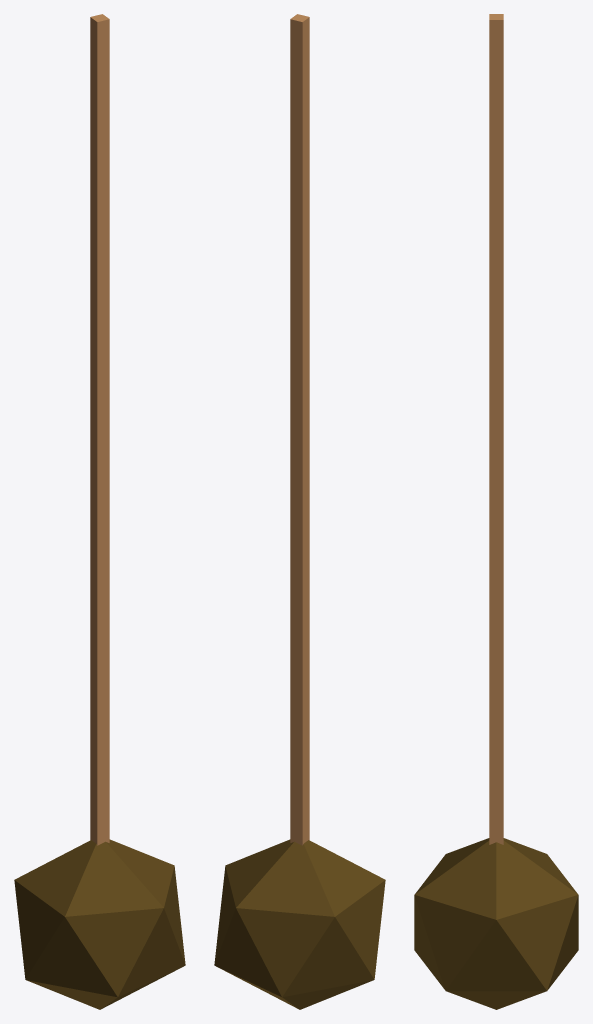
File: ChurchBell_01.fbx
The picture shows the model from 3 angles, left to right: view 1: azimuth 30°, elevation 25°; view 2: azimuth 150°, elevation 25°; view 3: azimuth 270°, elevation 25°; orthographic projection.
Visible parts, largest first — view 1: ChurchBell_01; view 2: ChurchBell_01; view 3: ChurchBell_01.
Part boxes in pixels (bbox=[...]): ChurchBell_01: bbox=[14, 14, 185, 1009]; ChurchBell_01: bbox=[214, 14, 385, 1009]; ChurchBell_01: bbox=[414, 14, 578, 1009].
Bounding box in the file's own units: 15.49 × 98.41 × 14.74.
